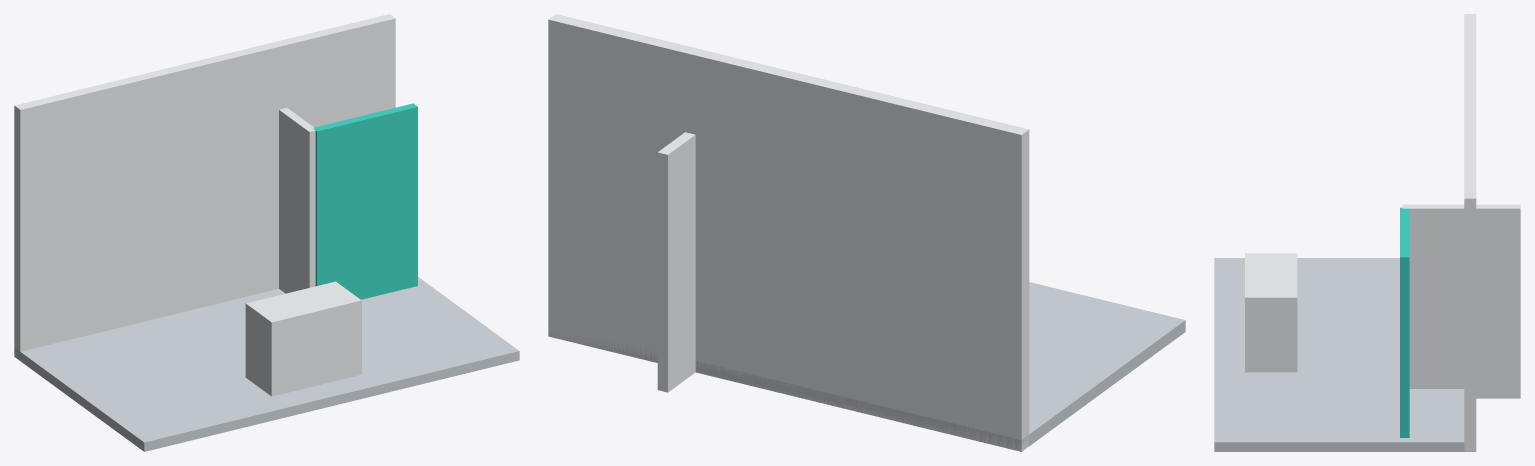
The picture shows the model from 3 angles, left to right: view 1: azimuth 30°, elevation 25°; view 2: azimuth 150°, elevation 25°; view 3: azimuth 270°, elevation 25°; orthographic projection. The views are drawn at different scales.
Visible parts, largest first — view 1: Exhibition Booth Concept; view 2: Exhibition Booth Concept; view 3: Exhibition Booth Concept.
Part boxes in pixels (left/top/right/bottom): Exhibition Booth Concept: left=14, top=14, right=519, bottom=451; Exhibition Booth Concept: left=548, top=14, right=1185, bottom=451; Exhibition Booth Concept: left=1214, top=14, right=1520, bottom=451.
Size of the model in its own units: 5 by 3.2 by 3.51.
